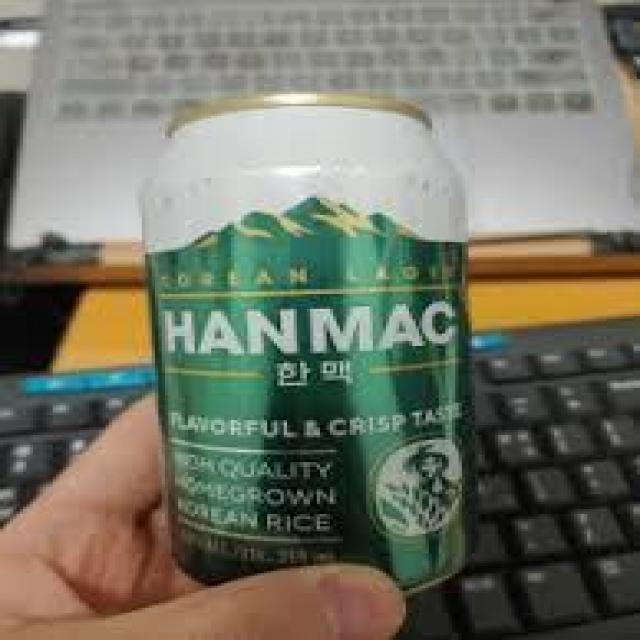beer-can: (132, 89, 475, 603)
